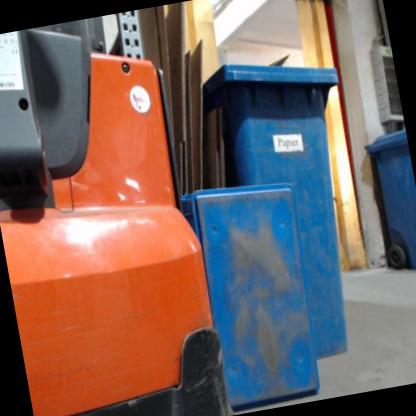pallet_truck: (0, 4, 241, 416)
